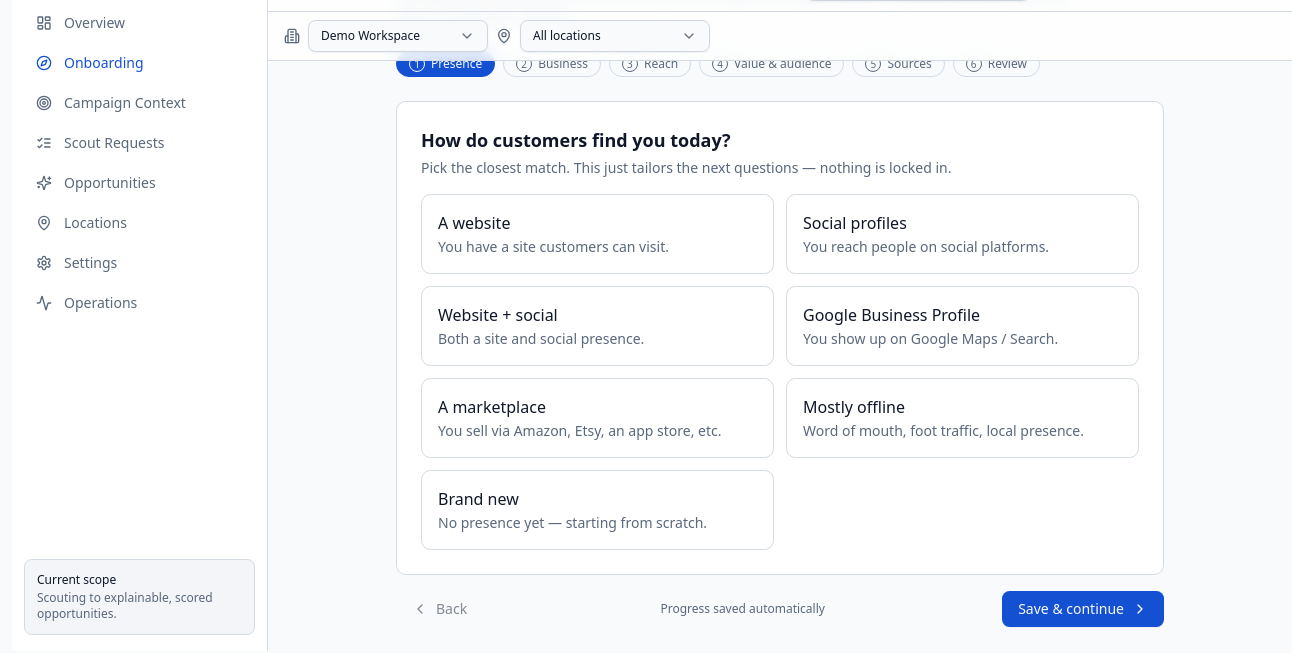
Test: formerly ungated mutation controls × six roles (§53) › C01 Finish onboarding (Onboarding.tsx:421) › reviewer
The width and height of the screenshot is (1292, 653).
(page scrolled)
Click the button "Save & continue": (1083, 609) [1002,591,1164,627]
(page scrolled)
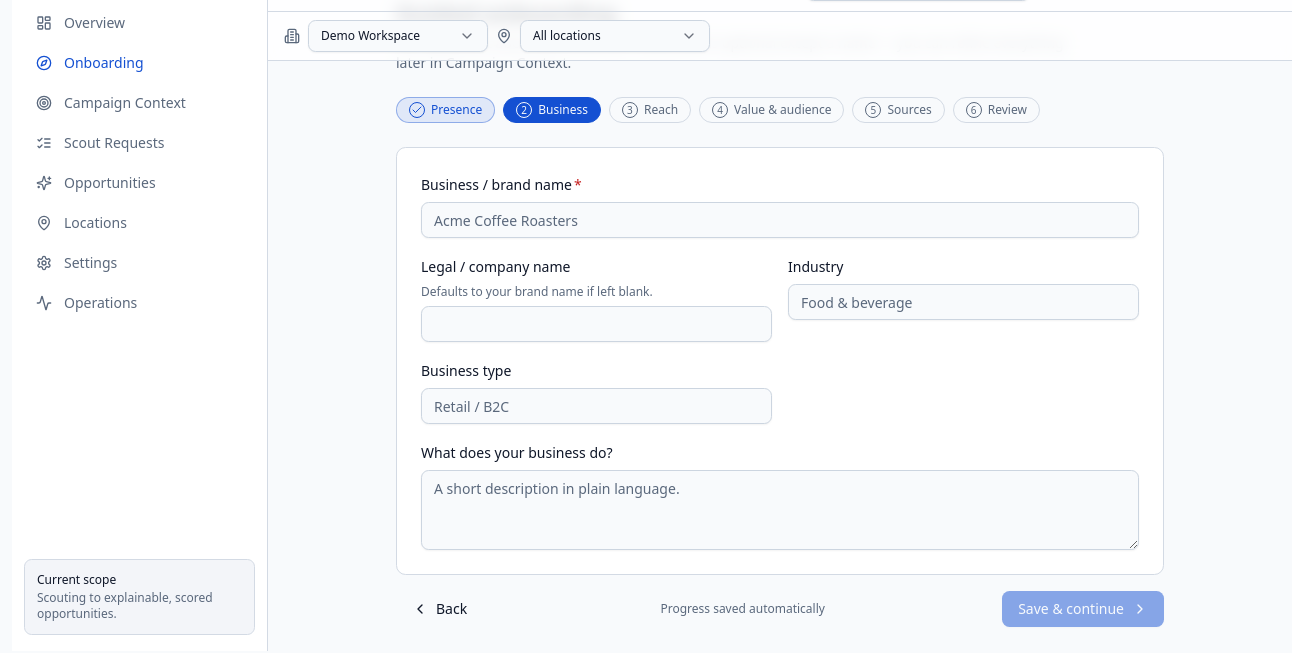
In the field labelled "Business / brand name*": (780, 220) [421,202,1139,238], type "Matrix Brand"
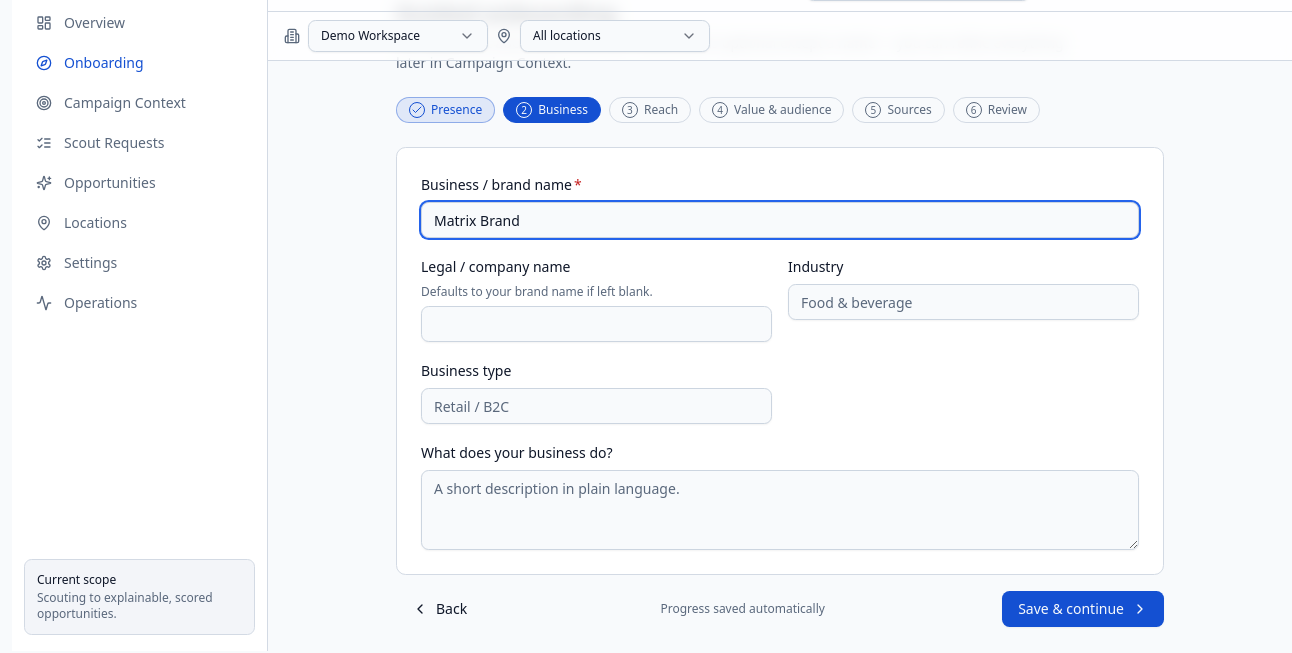
Click the button "Save & continue": (1083, 609) [1002,591,1164,627]
(page scrolled)
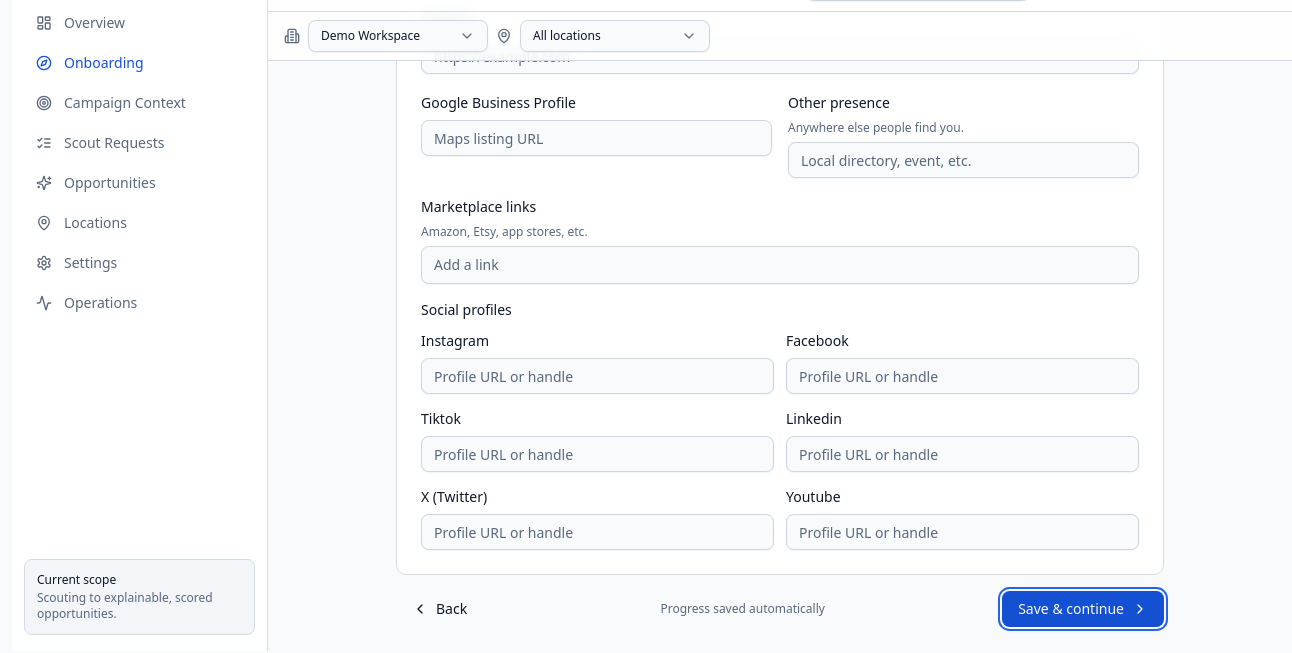
Click the button "Save & continue": (1083, 609) [1002,591,1164,627]
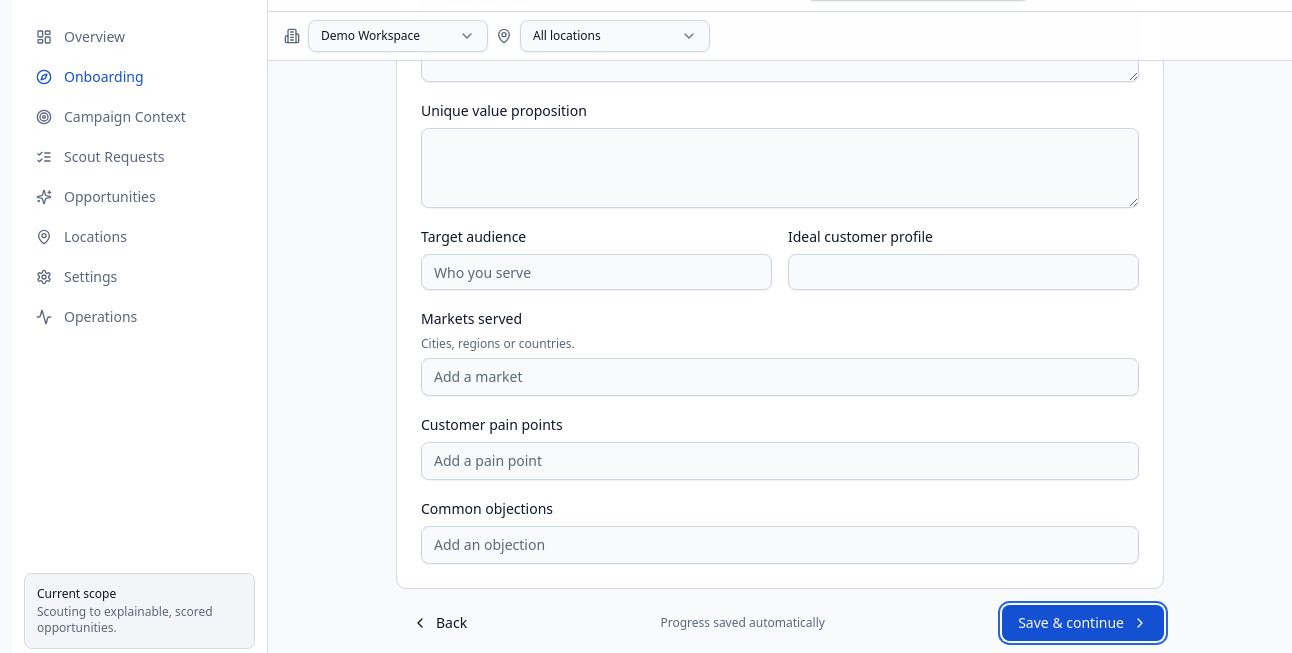
Click the button "Save & continue": (1083, 623) [1002,605,1164,641]
(page scrolled)
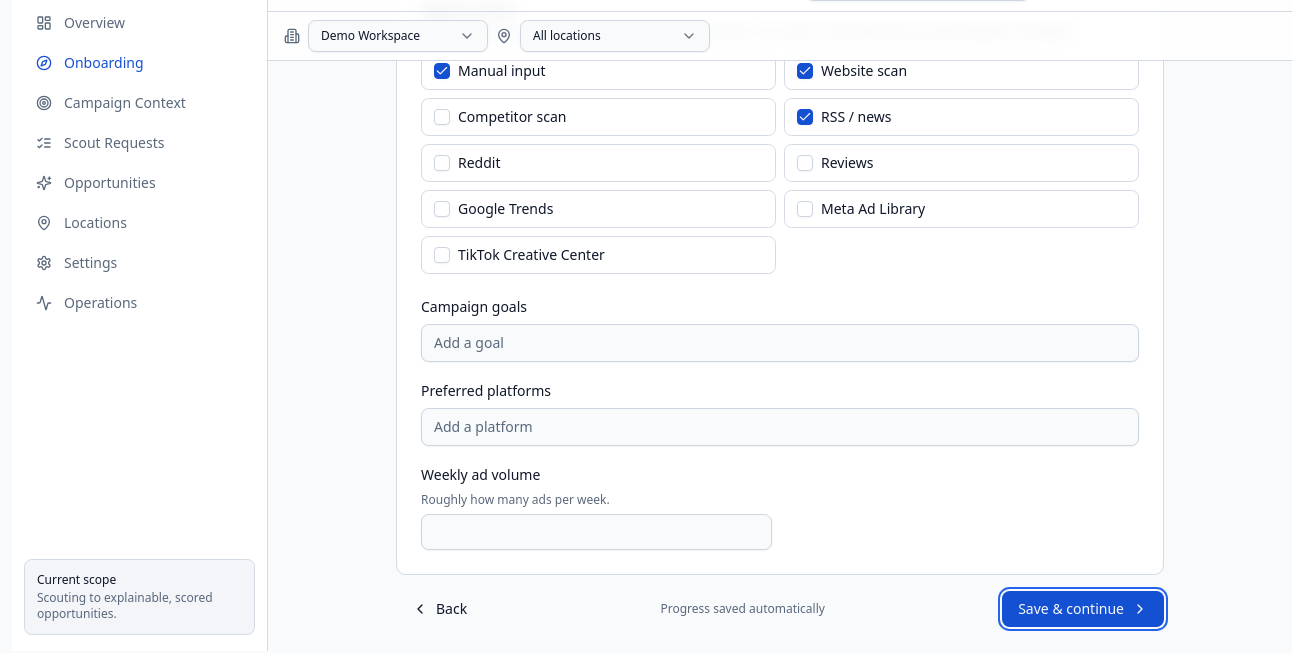
Click the button "Save & continue": (1083, 609) [1002,591,1164,627]
(page scrolled)
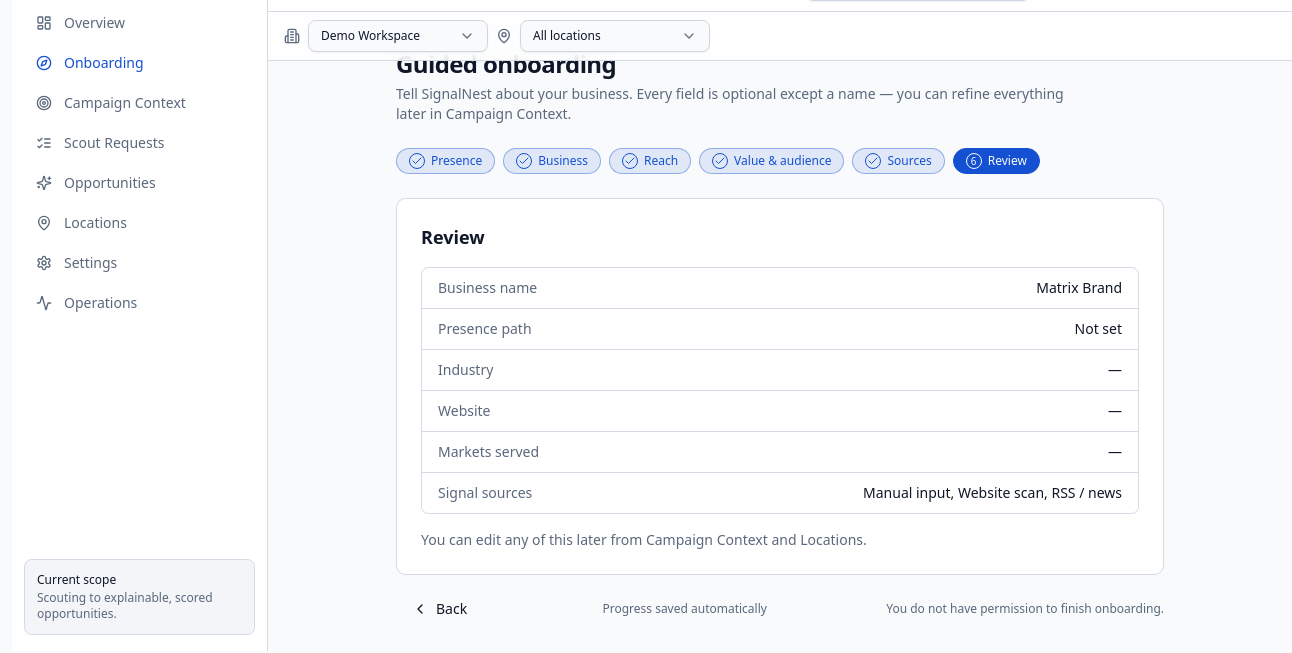
Check: the button "Save & continue" is gone
Check: the text "You do not have permission to finish onboarding." is shown, box [886,601,1164,617]
